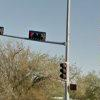Traffic light: (24, 26, 70, 83)
